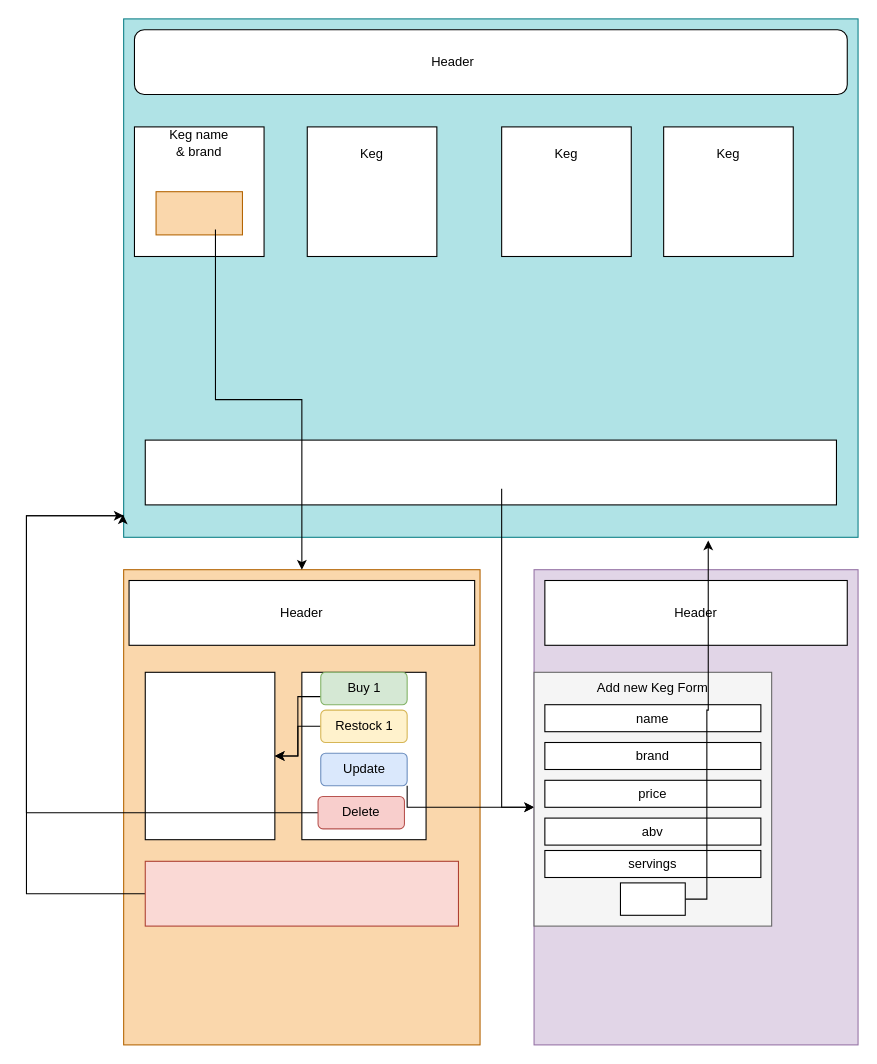
The diagram is 877 pixels wide and 1064 high, and some of its shapes have lost their labels. The centre of each missing label's shape, as x and y in pixels:
"Add Keg" belongs at point 652,898.
"Add Keg Button" belongs at point 490,472.
"Details" belongs at point 198,213.
"List of details" belongs at point 209,755.
"Return to list" belongs at point 301,893.
